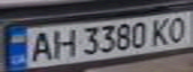0: (130, 19, 151, 48)
3: (78, 25, 100, 56), (97, 22, 118, 54)
8: (115, 20, 136, 52)
A: (24, 29, 57, 63)
H: (48, 26, 78, 60)
K: (148, 16, 172, 46)
O: (163, 14, 190, 43)
